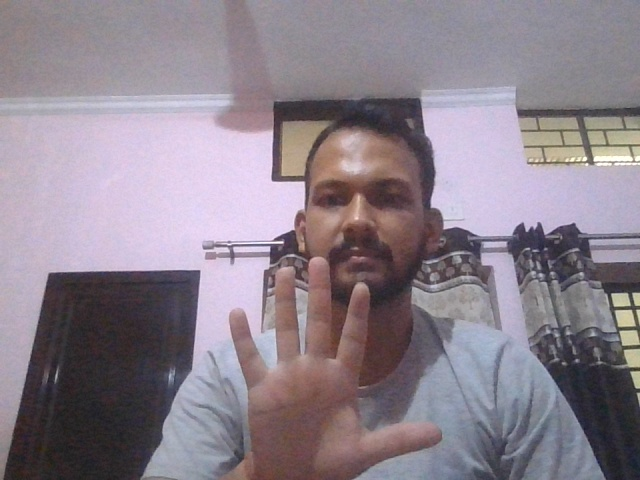hello: (227, 255, 444, 477)
